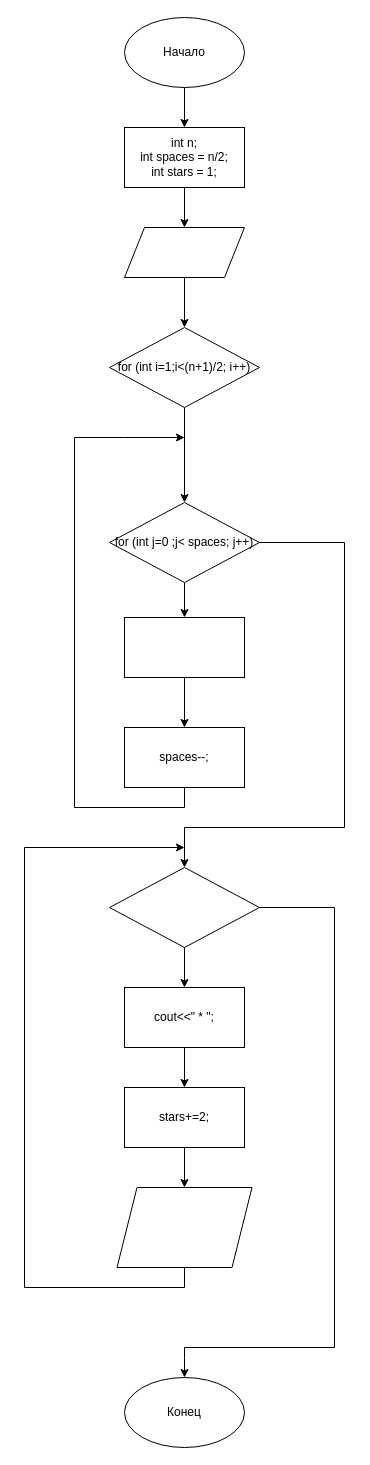
This 370x1465 diagram has some shape labels left out. The shapes that lost their labels are listed below. From the top down, each one's box as (x1, y1, x2, y2) in pixels, then its label:
(124, 226, 244, 278): cin >>n;
(124, 616, 244, 678): cout<<" ";
(108, 866, 260, 948): for (int j=0 ;j< stars; j++)
(116, 1186, 252, 1268): cout<<endl;
